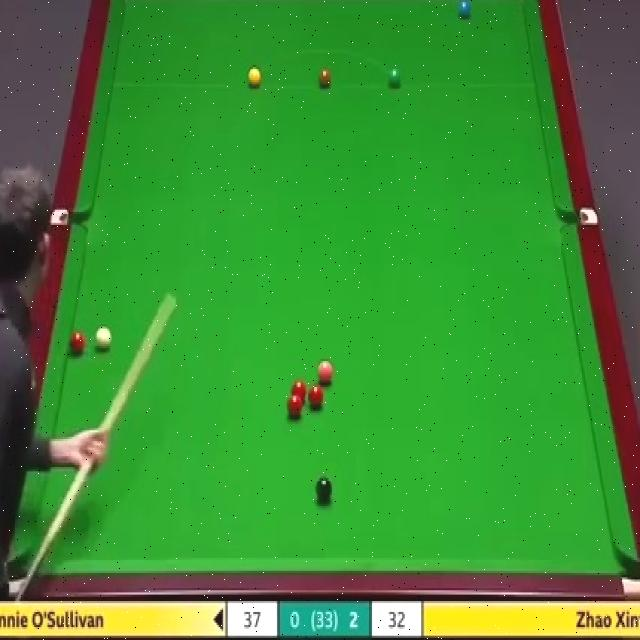black-ball: (315, 473, 333, 504)
blue-ball: (457, 0, 472, 17)
brown-ball: (317, 69, 332, 87)
green-ball: (387, 65, 403, 90)
pink-ball: (316, 359, 334, 384)
red-ball: (286, 394, 304, 417), (71, 332, 87, 356), (310, 386, 326, 408), (292, 379, 306, 404)
white-ball: (94, 327, 112, 348)
yellow-ball: (247, 66, 262, 88)
